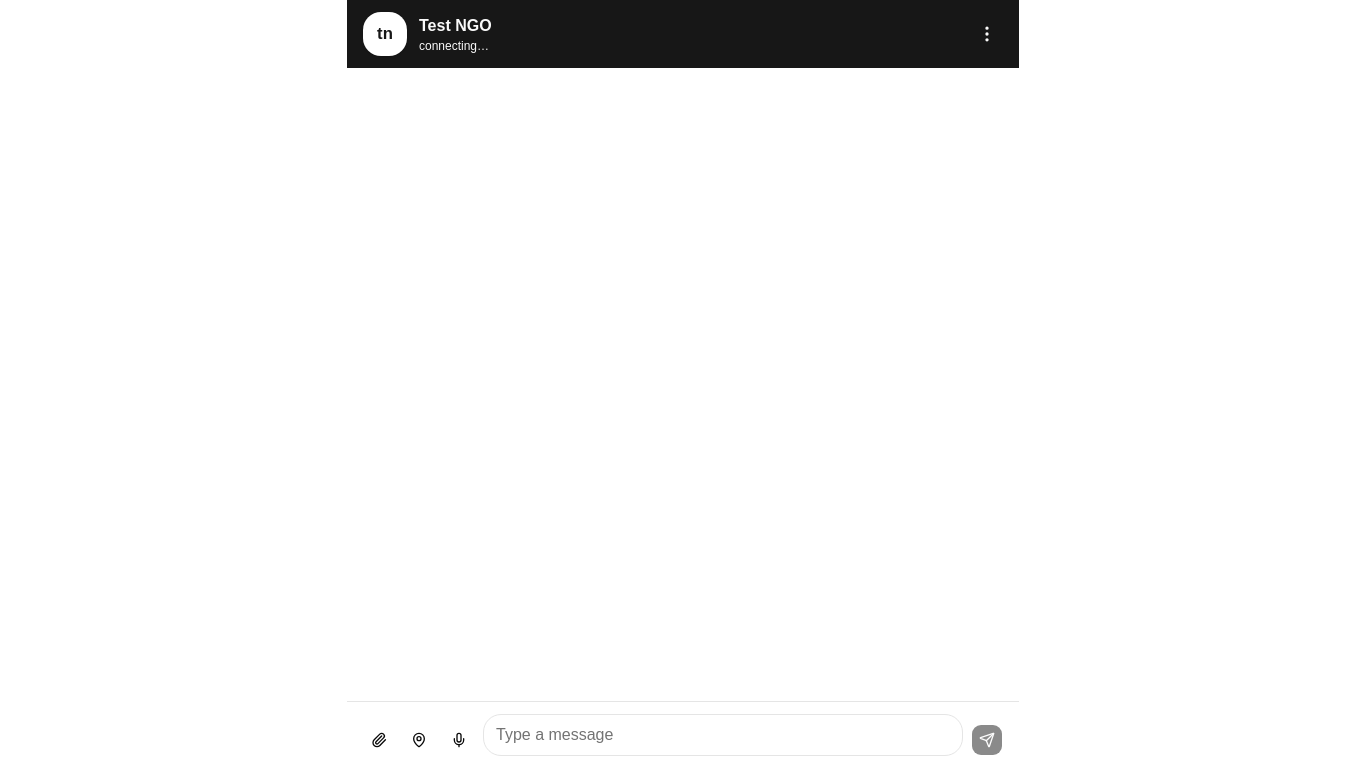
it: the chat header and menu › closes on the backdrop rather than trapping the contact in the menu
The image size is (1366, 768).
Expected: the text box with test id "composerInput" is shown, [483, 714, 963, 756]
Click the button with test id "chatMenuButton": point(987, 34) [971, 18, 1003, 50]
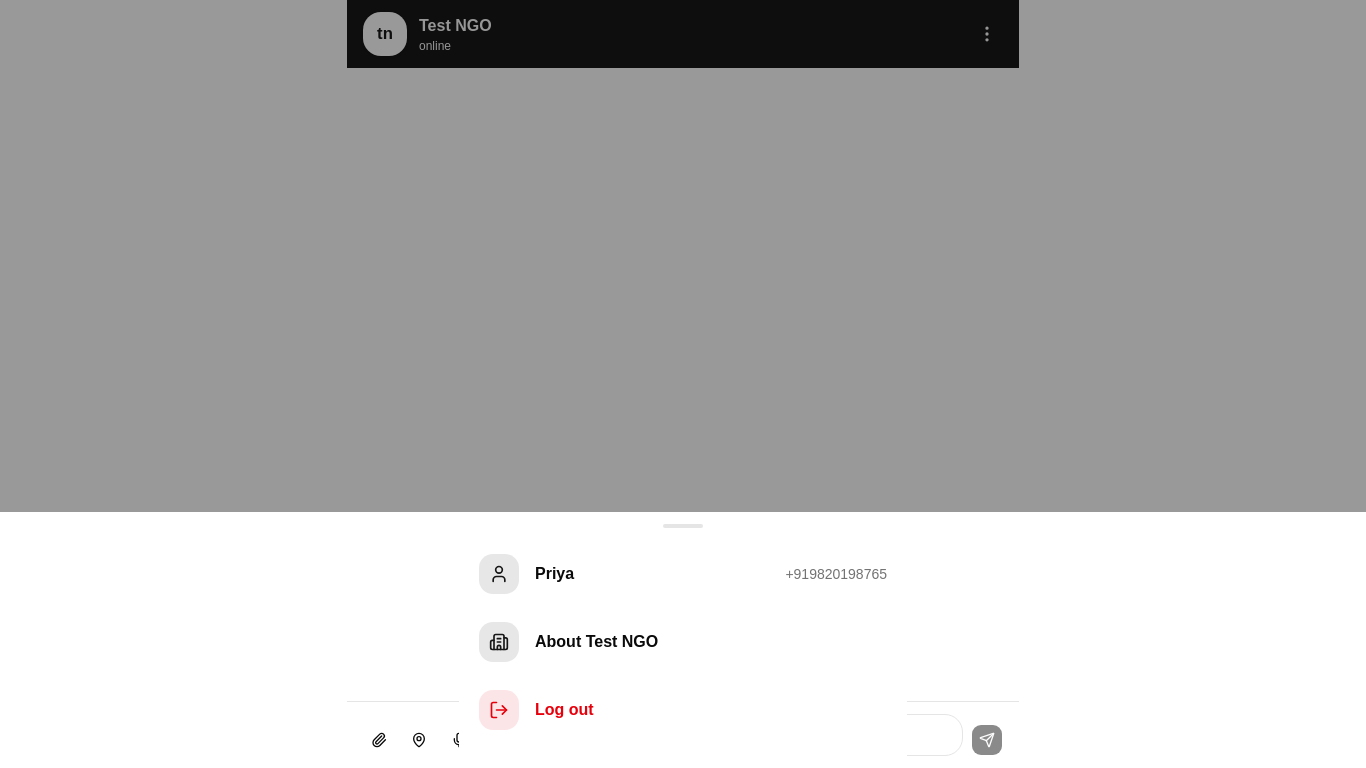
Click the button with test id "chatMenuBackdrop": point(683, 256) [0, 0, 1365, 512]
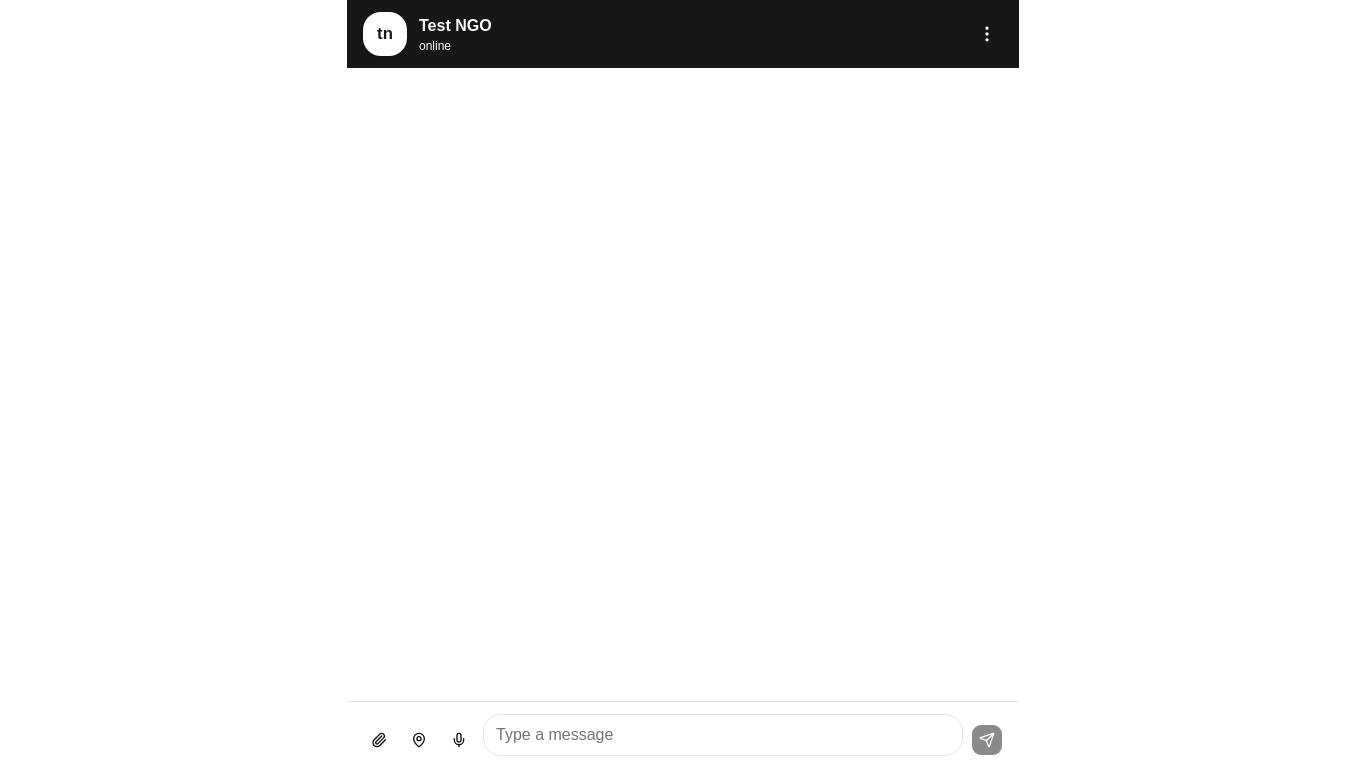
Expected: the element with test id "chatMenu" is gone
